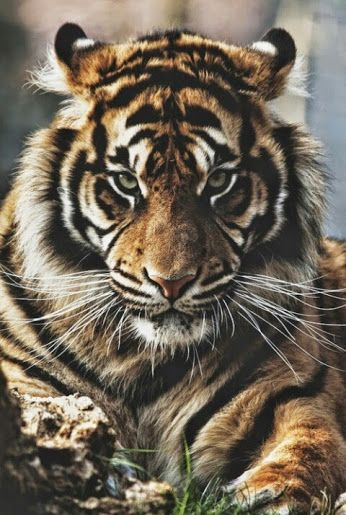Tigrew: (11, 15, 327, 411)
